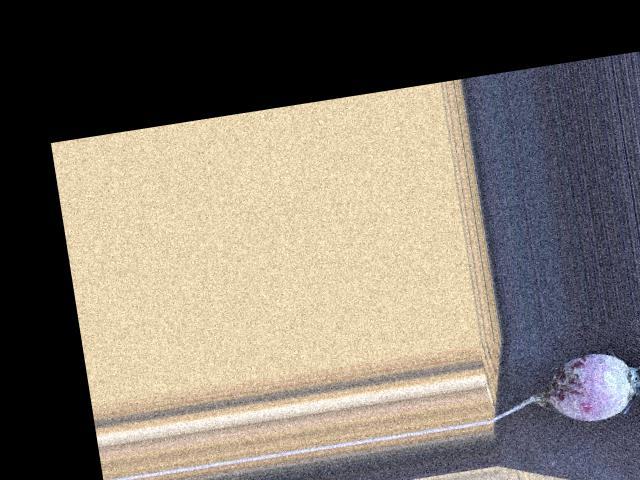beet: (482, 342, 640, 463)
